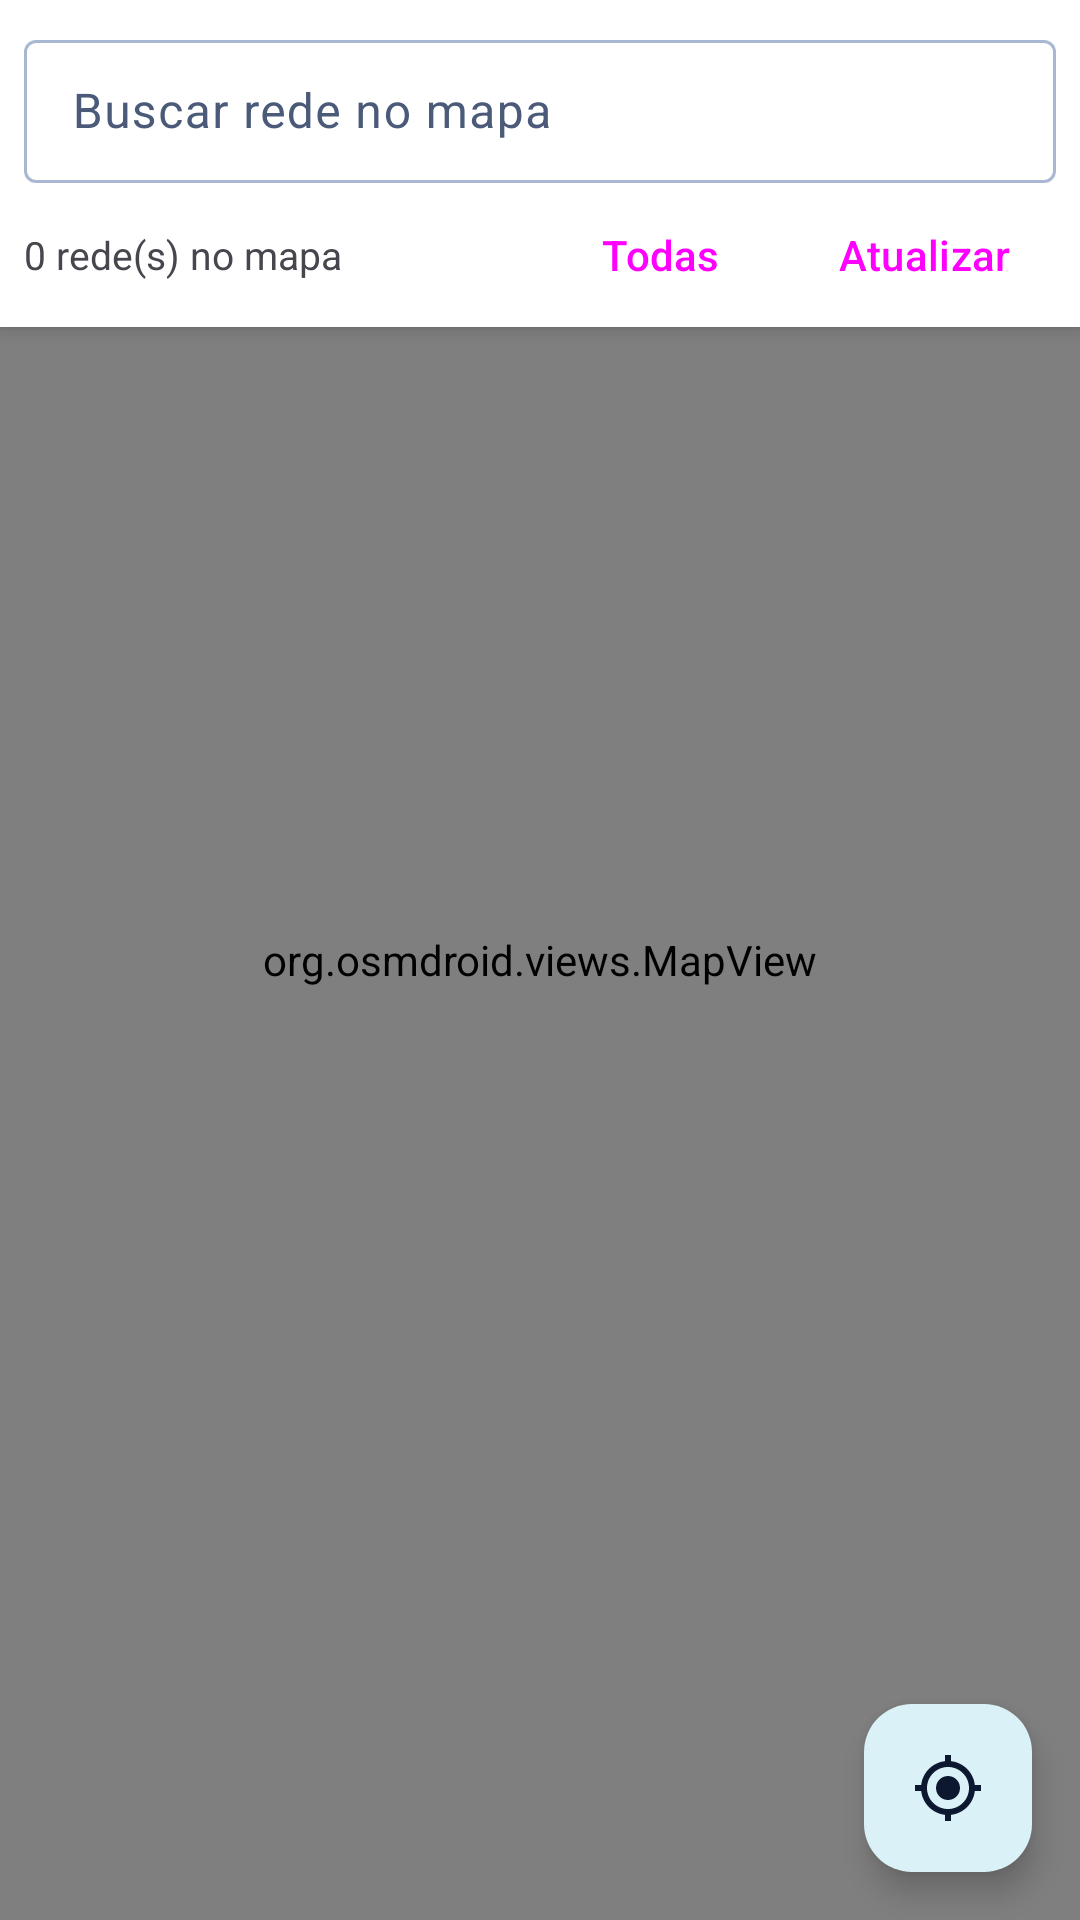

Where to tap for icons on this 1080×1920 app screen, as (x,y):
Minha posição: (948,1788)
